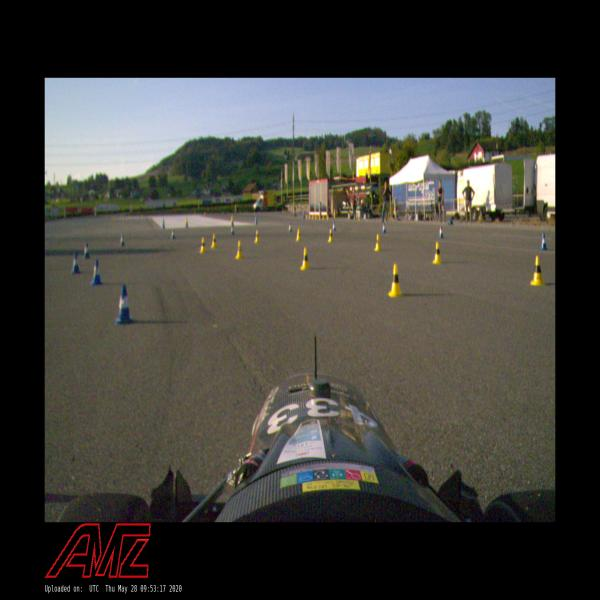blue_cone: (114, 284, 134, 324), (90, 260, 102, 285), (70, 252, 80, 274), (540, 233, 548, 251), (83, 244, 90, 260), (119, 232, 125, 246), (438, 226, 444, 239), (382, 223, 386, 233), (288, 222, 292, 232), (332, 222, 336, 231)
yellow_cone: (388, 263, 403, 298), (531, 256, 546, 286), (300, 247, 311, 270), (432, 242, 442, 264), (235, 241, 244, 260), (374, 234, 382, 251), (199, 237, 207, 254), (210, 234, 218, 248), (295, 228, 302, 241), (328, 229, 334, 242), (254, 230, 260, 243)
